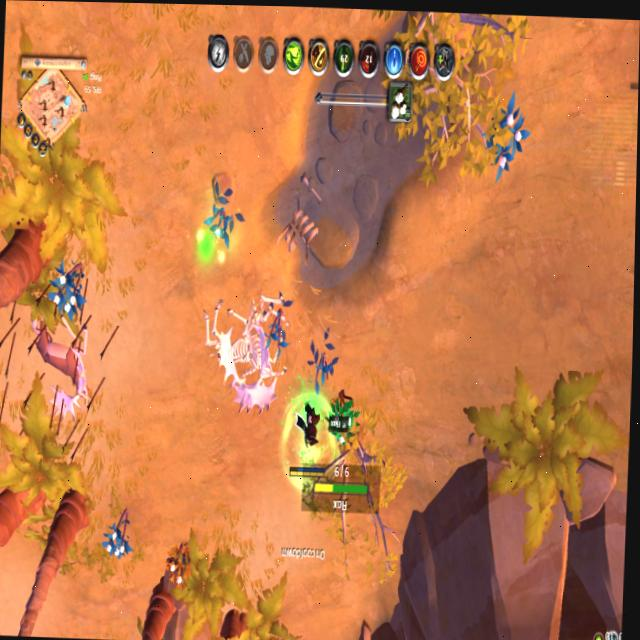hide: (474, 97, 532, 184), (43, 247, 94, 321), (326, 387, 358, 444), (166, 539, 195, 593), (103, 512, 131, 564)
mob: (19, 306, 97, 432)
red: (286, 394, 326, 482)
